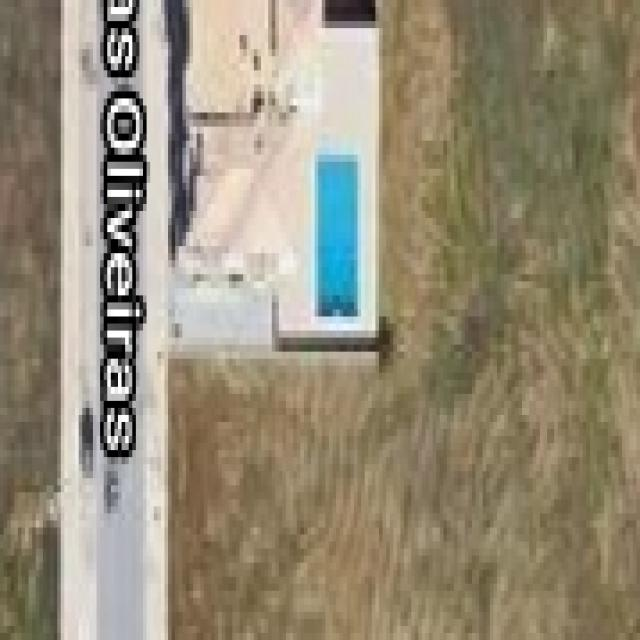pool: (307, 135, 368, 334)
